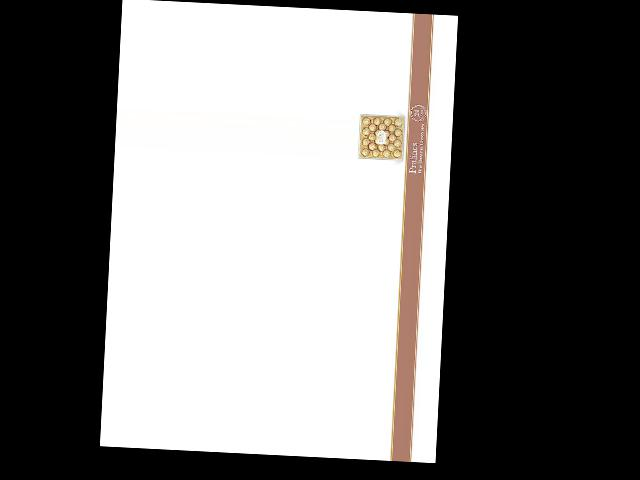chocolate: (354, 110, 407, 162)
